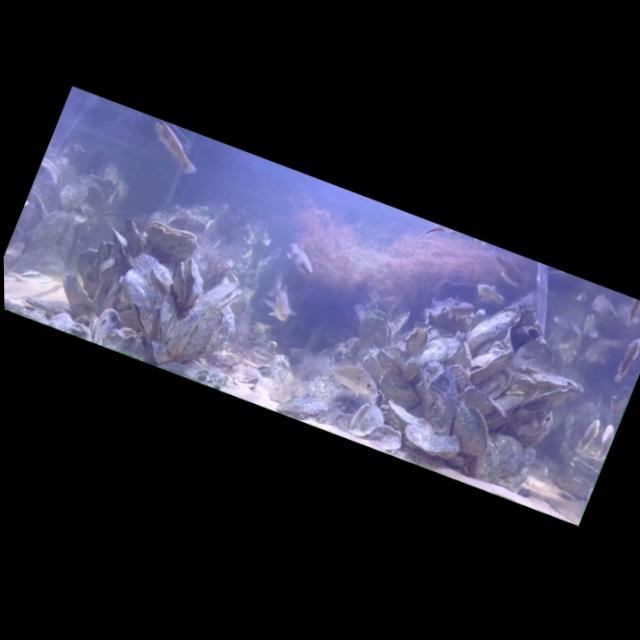Oyster-Closed: (105, 247, 182, 343), (399, 353, 475, 439), (398, 322, 461, 395), (462, 294, 523, 364), (396, 414, 464, 467), (183, 302, 228, 369), (464, 334, 515, 393), (477, 428, 530, 483), (163, 299, 206, 362), (381, 396, 437, 439), (468, 434, 513, 487), (146, 290, 187, 347), (24, 285, 80, 324), (372, 372, 423, 413), (442, 326, 484, 372), (99, 225, 137, 263)
Oyster-Indeterminate: (23, 202, 76, 273), (511, 358, 579, 405), (61, 241, 113, 302), (8, 188, 52, 251), (50, 266, 103, 318), (524, 373, 576, 426), (423, 294, 477, 343), (200, 304, 242, 366), (112, 215, 156, 263), (474, 356, 518, 403), (437, 358, 478, 399), (364, 419, 407, 458), (456, 381, 498, 420), (165, 203, 208, 241), (87, 304, 123, 349), (489, 381, 528, 420), (399, 322, 432, 360), (370, 347, 406, 379)
Oyster-Open: (439, 395, 502, 463), (139, 214, 202, 268), (164, 253, 213, 312), (351, 301, 403, 356), (344, 397, 390, 444), (199, 272, 244, 317), (32, 155, 70, 194), (254, 361, 275, 380)
